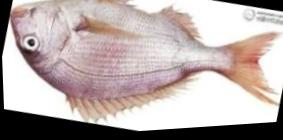fish: (10, 0, 279, 122)
